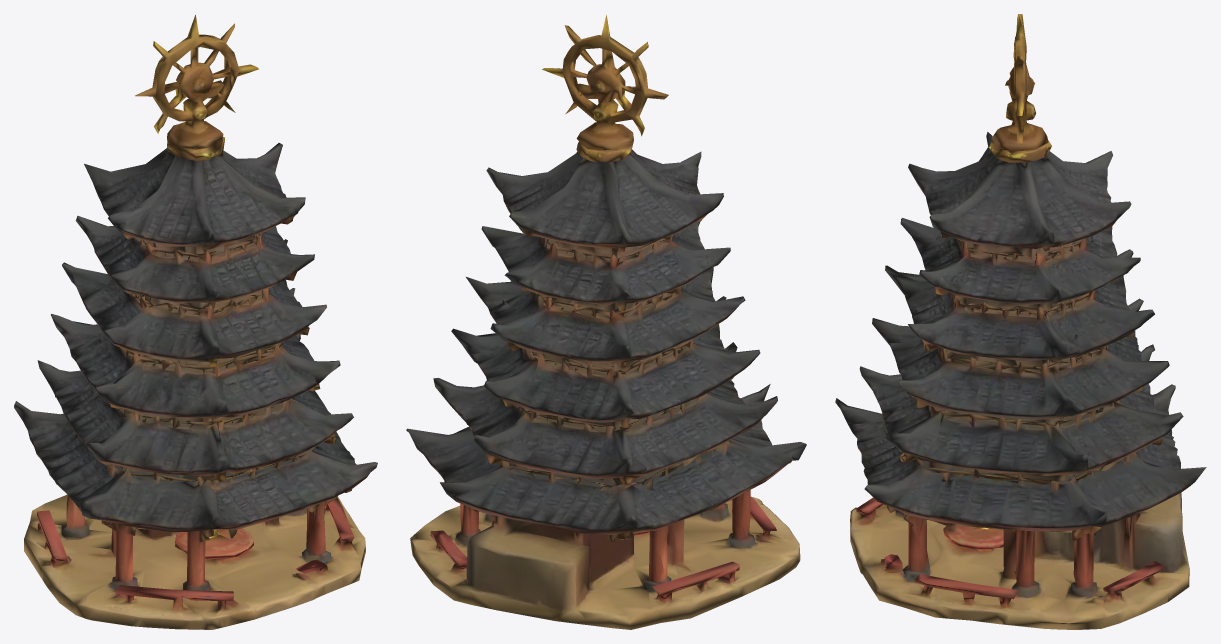
The model's file is h_hall.glb.
3 renders of one model, left to right at view 1: azimuth 30°, elevation 25°; view 2: azimuth 150°, elevation 25°; view 3: azimuth 270°, elevation 25°, orthographic.
Parts seen in each view (by area): view 1: tripo_node_b29f69f2-ae94-4486-a477-74a9a783f94b; view 2: tripo_node_b29f69f2-ae94-4486-a477-74a9a783f94b; view 3: tripo_node_b29f69f2-ae94-4486-a477-74a9a783f94b.
Boxes of the visible parts, box(x1,y1,x2,y2) form: tripo_node_b29f69f2-ae94-4486-a477-74a9a783f94b: box(14, 15, 377, 629); tripo_node_b29f69f2-ae94-4486-a477-74a9a783f94b: box(406, 14, 806, 629); tripo_node_b29f69f2-ae94-4486-a477-74a9a783f94b: box(835, 14, 1206, 629).
Size of the model in its own units: 0.6118 by 1 by 0.6245.
1 material, 1 textured.
